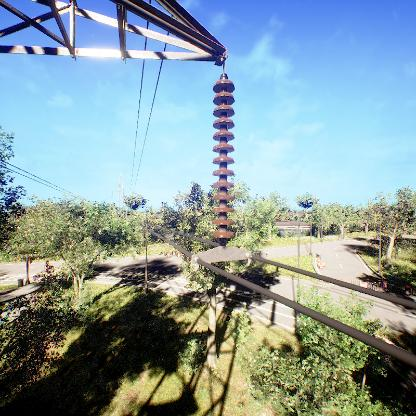insulator: (210, 78, 237, 246)
